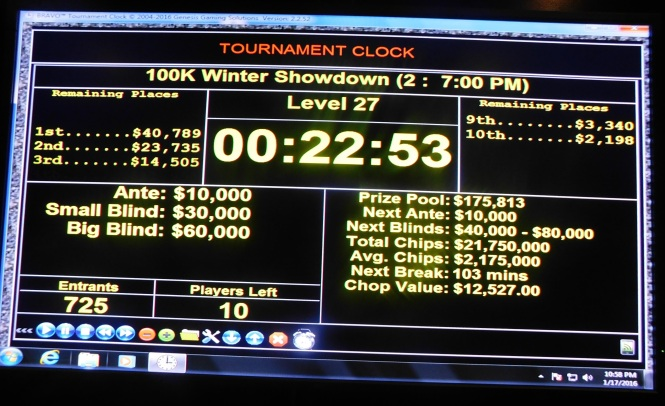PlayersLeft: (152, 273, 323, 325)
Remaining: (457, 93, 640, 196), (28, 83, 205, 187)
TournamentClock: (20, 55, 644, 336)
